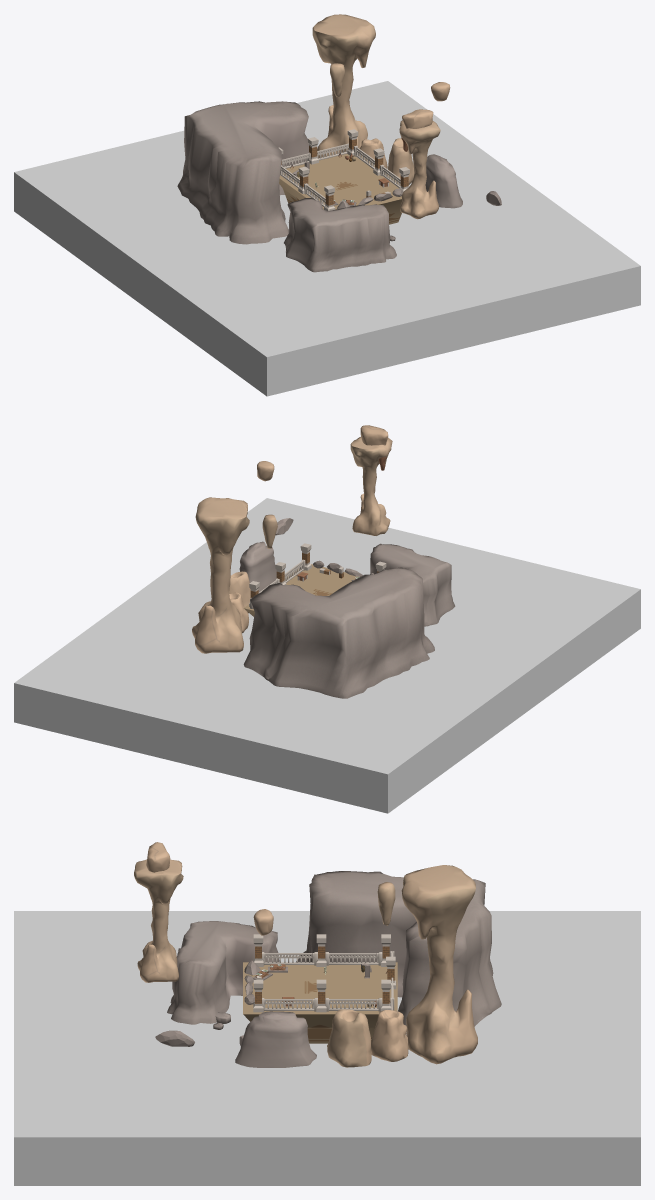
Rendered from BossRroom.fbx.
3 renders of one model, top to bottom at view 1: azimuth 30°, elevation 25°; view 2: azimuth 150°, elevation 25°; view 3: azimuth 270°, elevation 25°, orthographic. The views are drawn at different scales.
Parts seen in each view (by area): view 1: Box816, Plane.005, Plane.004, pilar1_1, Box779, pilar1, Plane.003, pilar3; view 2: Box816, Plane.005, pilar1_1, Plane.004, pilar1, Plane.003, Box779; view 3: Box816, Plane.005, pilar1_1, Plane.004, Box779, Plane.003, pilar1, pilar3, pilar6, Box811, pilar4_1, Box810 (+4 smaller).
Part boxes in pixels (left/top/right/bottom): Box816: left=14, top=81, right=640, bottom=396; Plane.005: left=177, top=101, right=308, bottom=244; Plane.004: left=284, top=198, right=396, bottom=272; pilar1_1: left=312, top=14, right=375, bottom=158; Box779: left=279, top=154, right=401, bottom=224; pilar1: left=399, top=120, right=440, bottom=219; Plane.003: left=425, top=154, right=462, bottom=208; pilar3: left=388, top=138, right=414, bottom=184; Box816: left=14, top=498, right=640, bottom=813; Plane.005: left=243, top=567, right=434, bottom=698; pilar1_1: left=192, top=497, right=249, bottom=653; Plane.004: left=370, top=543, right=455, bottom=626; pilar1: left=350, top=437, right=392, bottom=535; Plane.003: left=239, top=541, right=276, bottom=592; Box779: left=243, top=564, right=360, bottom=616; Box816: left=14, top=911, right=640, bottom=1185; Plane.005: left=296, top=871, right=501, bottom=1026; pilar1_1: left=401, top=865, right=477, bottom=1064; Plane.004: left=167, top=921, right=279, bottom=1024; Box779: left=243, top=962, right=397, bottom=1043; Plane.003: left=235, top=1011, right=316, bottom=1067; pilar1: left=134, top=859, right=183, bottom=982; pilar3: left=327, top=1009, right=371, bottom=1067; pilar6: left=370, top=1010, right=408, bottom=1061; Box811: left=325, top=952, right=382, bottom=965; pilar4_1: left=377, top=882, right=395, bottom=925; Box810: left=262, top=952, right=317, bottom=965.
Size of the model in its own units: 3162 by 1542 by 3704.
Materials: 46 (46 with a texture image).
